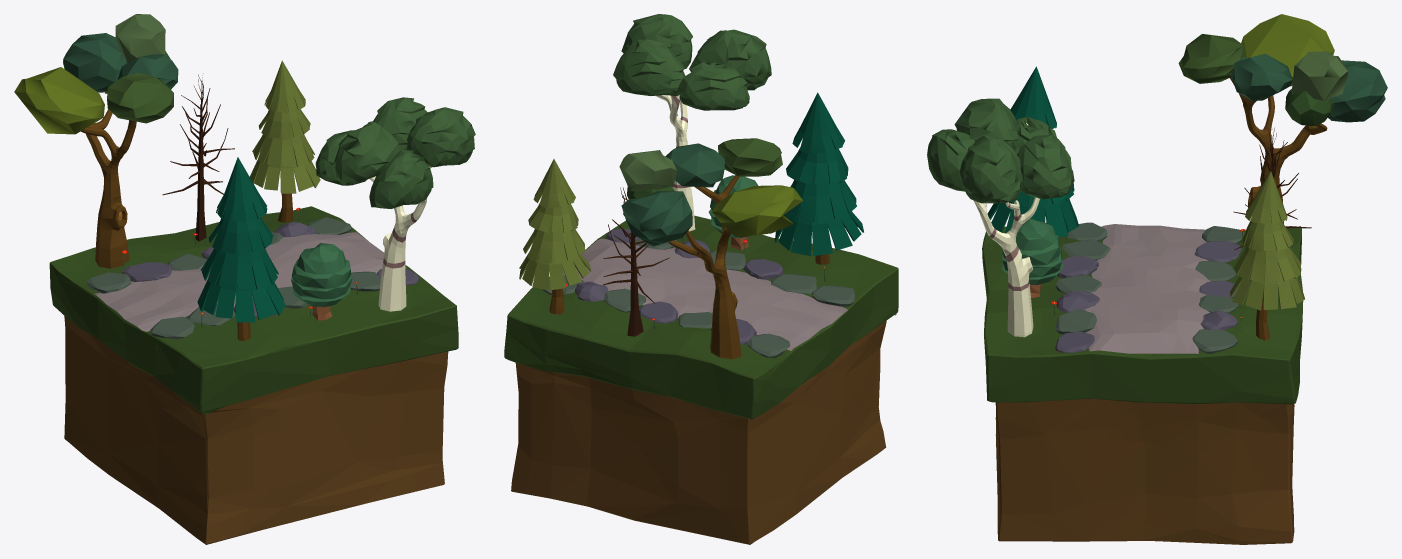
Rendered from tile_alley2.min.gltf.
3 renders of one model, left to right at view 1: azimuth 30°, elevation 25°; view 2: azimuth 150°, elevation 25°; view 3: azimuth 270°, elevation 25°, orthographic. The views are drawn at different scales.
Parts seen in each view (by area): view 1: CENTERED.003, CENTERED.009, Cube.008, christmas tree.002, Plane.001, christmas tree.005, Circle.004, Box002.007, Box002.004, tree.000; view 2: CENTERED.003, CENTERED.009, Cube.008, Plane.001, christmas tree.002, christmas tree.005, Box002.007, Box002.004, tree.000, Circle.004; view 3: CENTERED.003, CENTERED.009, Cube.008, Plane.001, christmas tree.005, Box002.004, Box002.007, christmas tree.002, Circle.004, tree.000.
Part boxes in pixels (bbox=[...]): CENTERED.003: bbox=[49, 206, 458, 544]; CENTERED.009: bbox=[14, 14, 178, 268]; Cube.008: bbox=[315, 97, 475, 311]; christmas tree.002: bbox=[197, 157, 285, 340]; Plane.001: bbox=[94, 232, 406, 346]; christmas tree.005: bbox=[250, 60, 320, 222]; Circle.004: bbox=[291, 243, 352, 320]; Box002.007: bbox=[86, 217, 351, 293]; Box002.004: bbox=[150, 268, 418, 339]; tree.000: bbox=[162, 73, 234, 241]; CENTERED.003: bbox=[504, 215, 898, 544]; CENTERED.009: bbox=[619, 138, 802, 359]; Cube.008: bbox=[613, 14, 771, 231]; Plane.001: bbox=[562, 238, 847, 350]; christmas tree.002: bbox=[774, 92, 863, 264]; christmas tree.005: bbox=[519, 159, 591, 314]; Box002.007: bbox=[543, 275, 789, 358]; Box002.004: bbox=[605, 229, 854, 306]; tree.000: bbox=[603, 187, 669, 336]; Circle.004: bbox=[708, 175, 758, 250]; CENTERED.003: bbox=[982, 226, 1303, 544]; CENTERED.009: bbox=[1178, 14, 1387, 223]; Cube.008: bbox=[927, 98, 1074, 337]; Plane.001: bbox=[1082, 224, 1210, 353]; christmas tree.005: bbox=[1230, 171, 1304, 340]; Box002.004: bbox=[1055, 222, 1110, 352]; Box002.007: bbox=[1192, 226, 1244, 353]; christmas tree.002: bbox=[987, 66, 1078, 237]; Circle.004: bbox=[1002, 219, 1063, 297]; tree.000: bbox=[1233, 127, 1311, 249].
Bounding box in the file's own units: 1.26 × 1.55 × 1.56.
